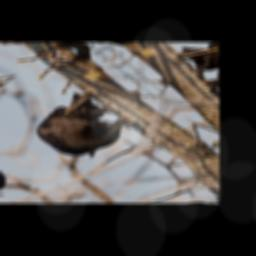Crow: (13, 86, 150, 168)
